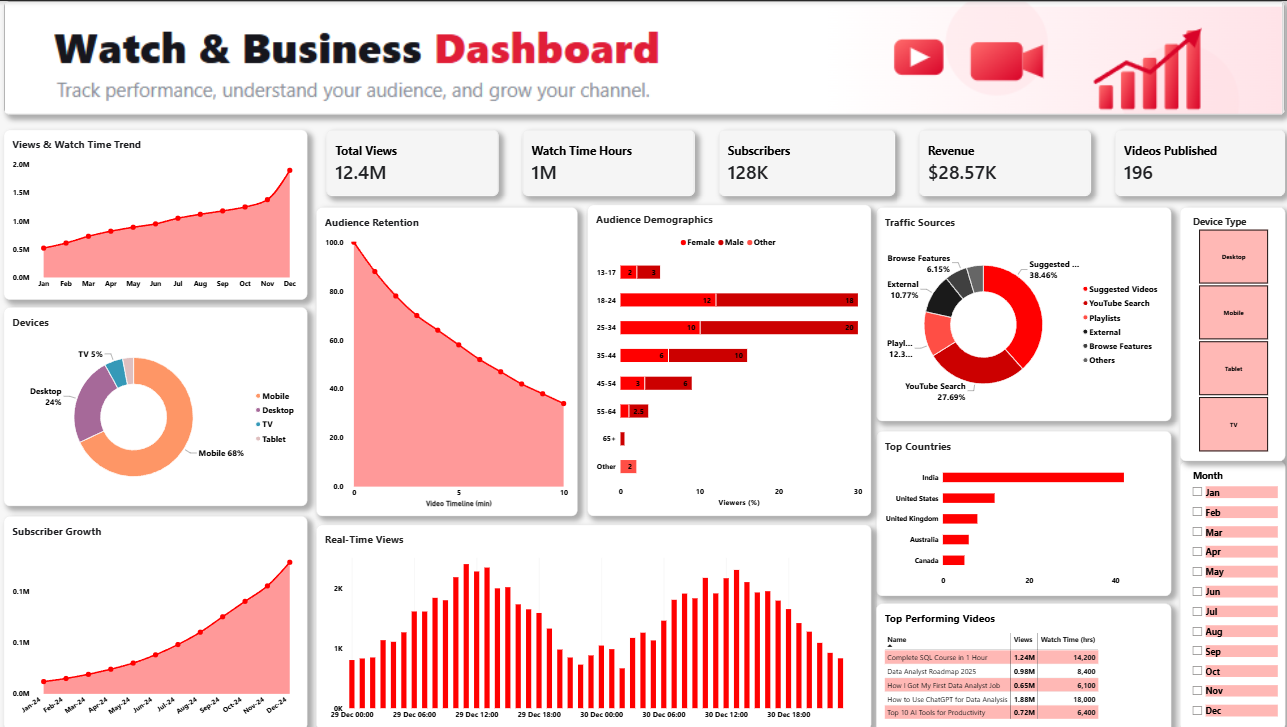

This screenshot's page, from the dashboard's own definition file:
{"tool":"powerbi","page":{"name":"Overview","canvas":[2560,1440],"ordinal":0},"visuals":[{"type":"cardVisual","fields":{"Data":["Sum(Monthly_Performance.Watch_Time_Hours)"]},"box":[1035.6,252.8,338.7,130.1],"z":0},{"type":"cardVisual","fields":{"Data":["Sum(Monthly_Performance.Estimated_Revenue)"]},"box":[1813.5,252.8,338.7,130.1],"z":1000},{"type":"cardVisual","fields":{"Data":["Sum(Monthly_Performance.Videos_Published)"]},"box":[2198.8,252.8,336.2,130.1],"z":2000},{"type":"cardVisual","fields":{"Data":["Growth_Retention.Total Subscribers"]},"box":[1420.9,252.8,346,130.1],"z":3000},{"type":"areaChart","title":" Views & Watch Time Trend","fields":{"Category":["Calendar.Month Name"],"Y":["Monthly_Performance.Total Views"]},"box":[17.2,252.8,596.3,333.7],"z":4000},{"type":"areaChart","title":"Subscriber Growth","fields":{"Category":["Growth_Retention.Time_Period"],"Y":["Monthly_Performance.Monthly Subscribers"]},"box":[17.2,1011,596.3,422.1],"z":5000},{"type":"donutChart","title":"Traffic Sources","fields":{"Category":["Traffic_Devices.Source"],"Y":["Sum(Traffic_Devices.Percentage)"]},"box":[1730.1,404.9,579.1,419.6],"z":6000},{"type":"donutChart","title":"Devices","fields":{"Category":["Traffic_Devices.Source"],"Y":["Sum(Traffic_Devices.Percentage)"]},"box":[17.2,601.2,596.3,390.2],"z":7000},{"type":"clusteredBarChart","title":"Top Countries","fields":{"Category":["Videos_Countries.Name"],"Y":["Sum(Videos_Countries.Percentage)"]},"box":[1730.1,844.2,579.1,323.9],"z":8000},{"type":"barChart","title":"Audience Demographics","fields":{"Category":["Audience_Demographics.Age_Group"],"Series":["Audience_Demographics.Gender"],"Y":["Sum(Audience_Demographics.Percentage)"]},"box":[1163.2,400,557.1,611],"z":9000},{"type":"areaChart","title":"Audience Retention","fields":{"Category":["Growth_Retention.TimeOrder"],"Y":["Sum(Growth_Retention.Value)"]},"box":[630.7,404.9,512.9,606.1],"z":10000},{"type":"image","box":[17.2,0,2517.8,223.3],"z":11000},{"type":"clusteredColumnChart","title":"Real-Time Views","fields":{"Category":["Realtime_48h.hour"],"Y":["Sum(Realtime_48h.views)"]},"box":[630.7,1028.2,1089.6,404.9],"z":12000},{"type":"slicer","fields":{"Values":["Calendar.Month Name"]},"box":[2326.4,903.1,208.6,530.1],"z":13000},{"type":"slicer","fields":{"Values":["Traffic_Devices.Source"]},"box":[2326.4,404.9,208.6,498.2],"z":14000},{"type":"pivotTable","title":"Top Performing Videos","fields":{"Rows":["Videos_Countries.Name"],"Values":["Sum(Videos_Countries.Views)","Sum(Videos_Countries.Watch_Time_Hours)"]},"box":[1730.1,1182.8,579.1,257.7],"z":15000},{"type":"cardVisual","fields":{"Data":["Monthly_Performance.Total Views"]},"box":[650.3,252.8,338.7,130.1],"z":16000}]}

Visuals, with their boxes in screenshot pixels (x1, y1, x2, y2), scaled from the page's 2560x1440 canvas onto the 1287x727 screenshot:
cardVisual - Sum(Monthly_Performance.Watch_Time_Hours): (x1=521, y1=128, x2=691, y2=193)
cardVisual - Sum(Monthly_Performance.Estimated_Revenue): (x1=912, y1=128, x2=1082, y2=193)
cardVisual - Sum(Monthly_Performance.Videos_Published): (x1=1105, y1=128, x2=1274, y2=193)
cardVisual - Growth_Retention.Total Subscribers: (x1=714, y1=128, x2=888, y2=193)
" Views & Watch Time Trend" areaChart: (x1=9, y1=128, x2=308, y2=296)
"Subscriber Growth" areaChart: (x1=9, y1=510, x2=308, y2=724)
"Traffic Sources" donutChart: (x1=870, y1=204, x2=1161, y2=416)
"Devices" donutChart: (x1=9, y1=304, x2=308, y2=501)
"Top Countries" clusteredBarChart: (x1=870, y1=426, x2=1161, y2=590)
"Audience Demographics" barChart: (x1=585, y1=202, x2=865, y2=510)
"Audience Retention" areaChart: (x1=317, y1=204, x2=575, y2=510)
image: (x1=9, y1=0, x2=1274, y2=113)
"Real-Time Views" clusteredColumnChart: (x1=317, y1=519, x2=865, y2=724)
slicer - Calendar.Month Name: (x1=1170, y1=456, x2=1274, y2=724)
slicer - Traffic_Devices.Source: (x1=1170, y1=204, x2=1274, y2=456)
"Top Performing Videos" pivotTable: (x1=870, y1=597, x2=1161, y2=726)
cardVisual - Monthly_Performance.Total Views: (x1=327, y1=128, x2=497, y2=193)
